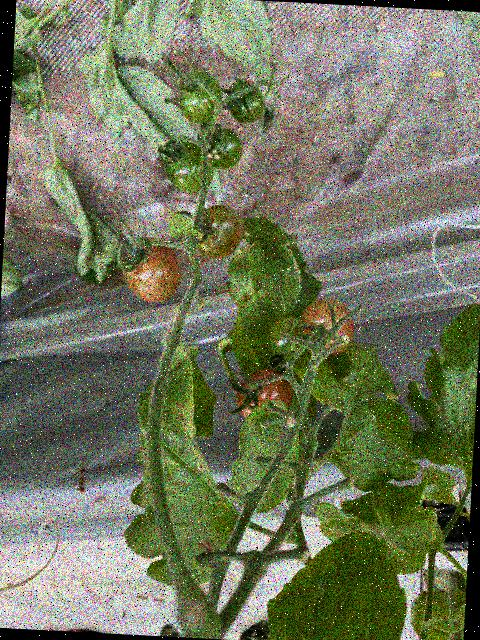l_green: (162, 139, 215, 197), (177, 71, 224, 126), (224, 78, 267, 126), (199, 127, 243, 171), (265, 316, 302, 363)
l_half_ripened: (120, 235, 184, 306), (234, 366, 295, 423), (299, 297, 357, 356), (195, 204, 244, 260)
